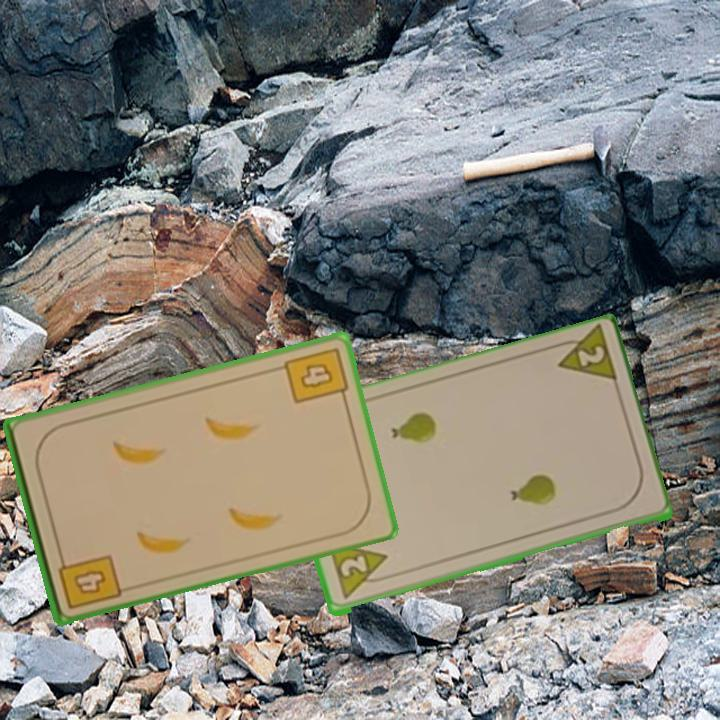2p: (547, 324, 621, 388), (336, 552, 370, 581)
4b: (280, 343, 351, 407), (54, 548, 124, 612)
